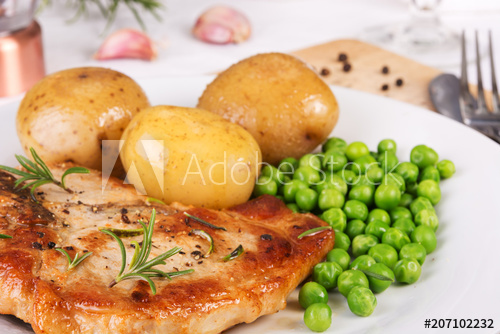boiled peas: (302, 140, 457, 321)
boiled potatoes: (13, 64, 343, 190)
